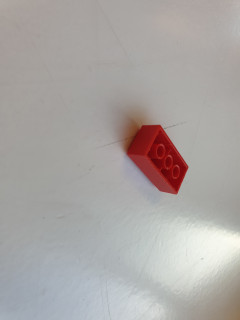2x4 red: (126, 124, 190, 196)
